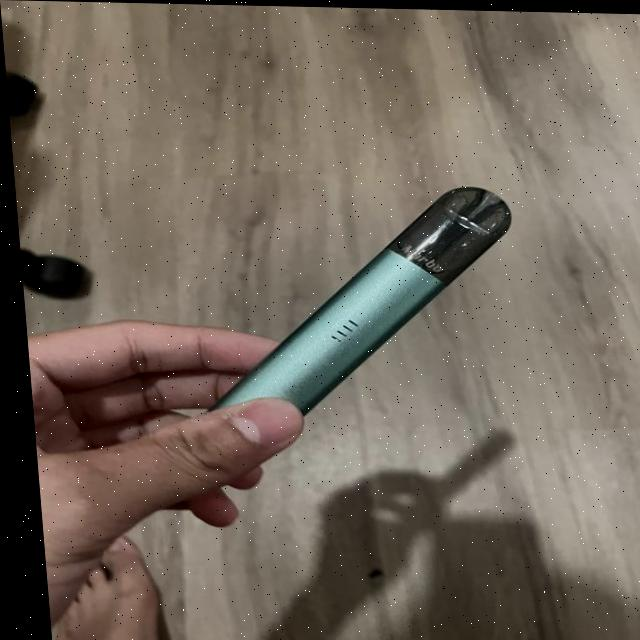vape: (191, 177, 526, 415)
